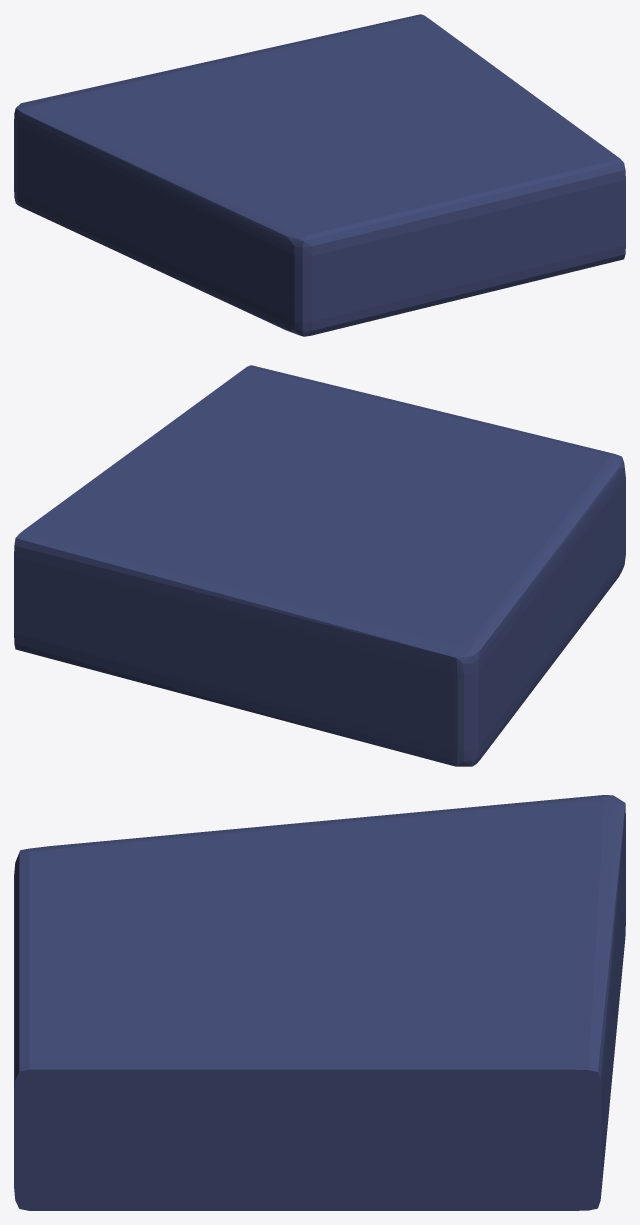
The model's file is left_hip_pitch_link_part_16.obj.
3 renders of one model, top to bottom at view 1: azimuth 30°, elevation 25°; view 2: azimuth 150°, elevation 25°; view 3: azimuth 270°, elevation 25°, orthographic. The views are drawn at different scales.
Size of the model in its own units: 0.0734 by 0.0173 by 0.0681.
